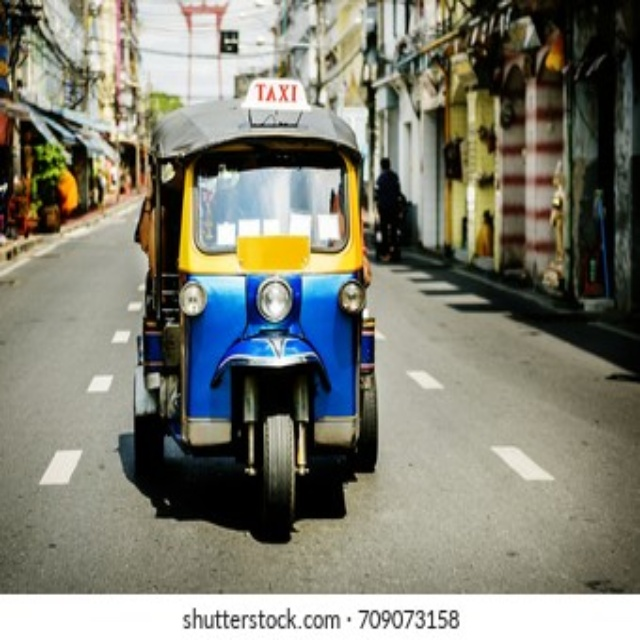Motorcycle: (134, 78, 380, 535)
